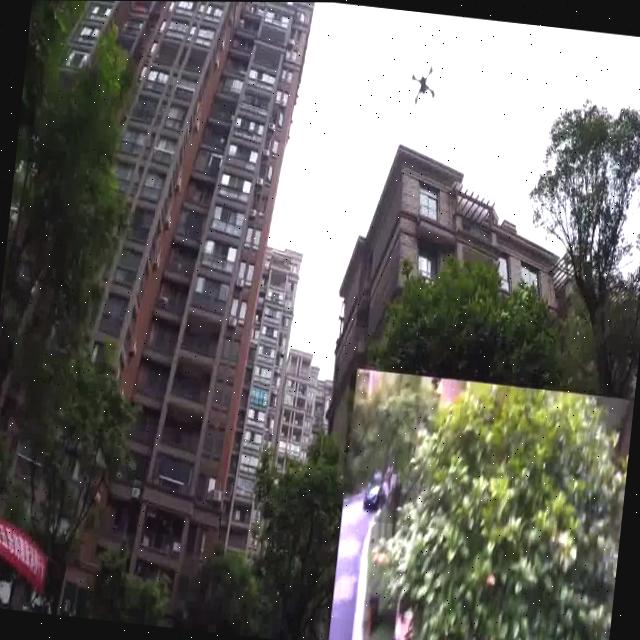drone: (398, 37, 443, 109)
